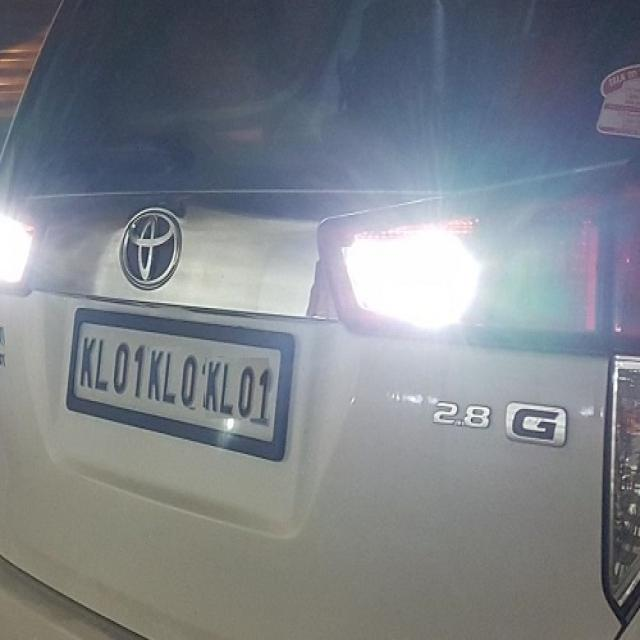number_plate: (73, 316, 282, 433)
